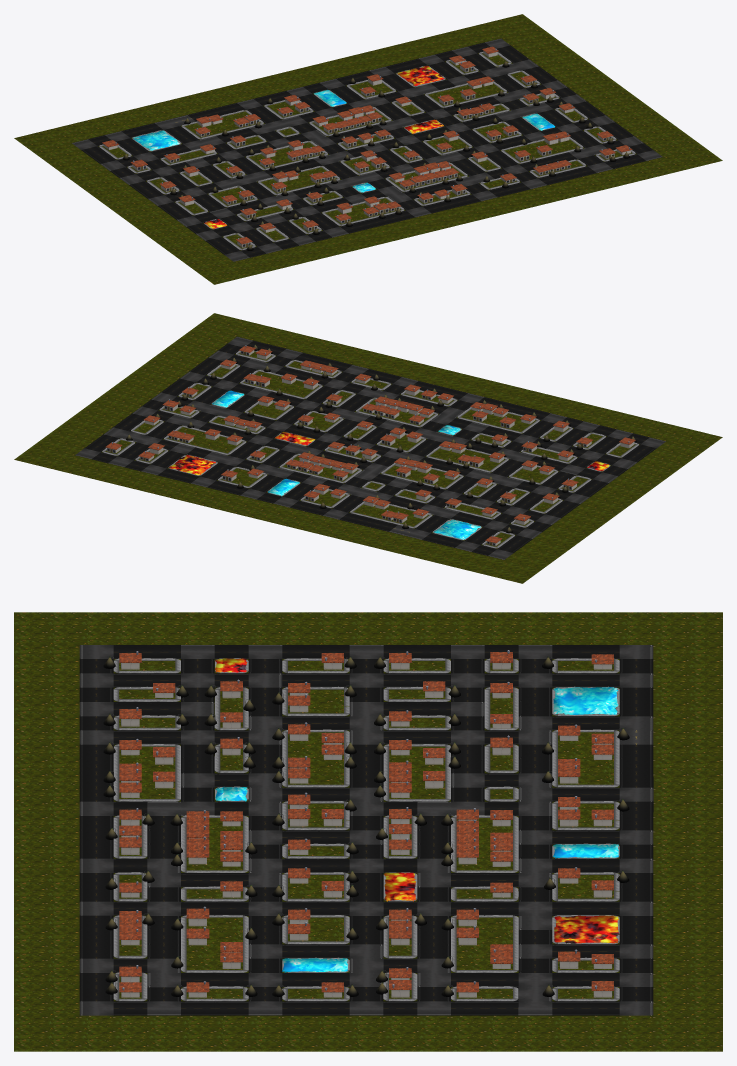
Rendered from gm14_environment_02.FBX.
The picture shows the model from 3 angles, top to bottom: view 1: azimuth 30°, elevation 25°; view 2: azimuth 150°, elevation 25°; view 3: azimuth 270°, elevation 25°; orthographic projection. The views are drawn at different scales.
Parts seen in each view (by area): view 1: env_road_01, env_main_ground_01, env_ground_016, prp_lampostlight_04, env_ground_fire4x_01, env_ground_ice4x_01, prp_lampostlight_02, prp_lampostlight_03; view 2: env_road_01, env_main_ground_01, env_ground_016, env_ground_ice4x_01, env_ground_fire4x_01, prp_lampostlight_03, prp_lampostlight_02; view 3: env_road_01, env_main_ground_01, env_ground_016, prp_lampostlight_04, prp_lampostlight_03, prp_lampostlight_02, env_ground_fire4x_01, env_ground_ice4x_01, prp_lampostlight_01, env_ground_ice2x_01, env_ground_ice2x_002, env_ground_fire2x_01 (+1 smaller).
Boxes of the visible parts, bbox=[...] form: env_road_01: bbox=[72, 38, 662, 261]; env_main_ground_01: bbox=[14, 14, 722, 284]; env_ground_016: bbox=[99, 52, 635, 250]; prp_lampostlight_04: bbox=[170, 82, 553, 195]; env_ground_fire4x_01: bbox=[397, 65, 444, 85]; env_ground_ice4x_01: bbox=[133, 130, 179, 150]; prp_lampostlight_02: bbox=[251, 123, 614, 227]; prp_lampostlight_03: bbox=[178, 102, 585, 205]; env_road_01: bbox=[75, 336, 665, 559]; env_main_ground_01: bbox=[14, 313, 722, 583]; env_ground_016: bbox=[102, 350, 638, 548]; env_ground_ice4x_01: bbox=[433, 519, 480, 539]; env_ground_fire4x_01: bbox=[168, 455, 215, 475]; prp_lampostlight_03: bbox=[181, 379, 568, 492]; prp_lampostlight_02: bbox=[210, 358, 582, 459]; env_road_01: bbox=[79, 645, 653, 1015]; env_main_ground_01: bbox=[14, 612, 722, 1051]; env_ground_016: bbox=[113, 658, 619, 1001]; prp_lampostlight_04: bbox=[374, 657, 460, 996]; prp_lampostlight_03: bbox=[272, 657, 358, 996]; prp_lampostlight_02: bbox=[170, 686, 257, 996]; env_ground_fire4x_01: bbox=[554, 915, 619, 943]; env_ground_ice4x_01: bbox=[553, 687, 618, 714]; prp_lampostlight_01: bbox=[103, 657, 154, 994]; env_ground_ice2x_01: bbox=[282, 958, 347, 972]; env_ground_ice2x_002: bbox=[553, 844, 618, 858]; env_ground_fire2x_01: bbox=[384, 872, 415, 901].
Size of what is drawn, in the model's own units: 185 by 2.83 by 126.
Materials: 12 (12 with a texture image).
